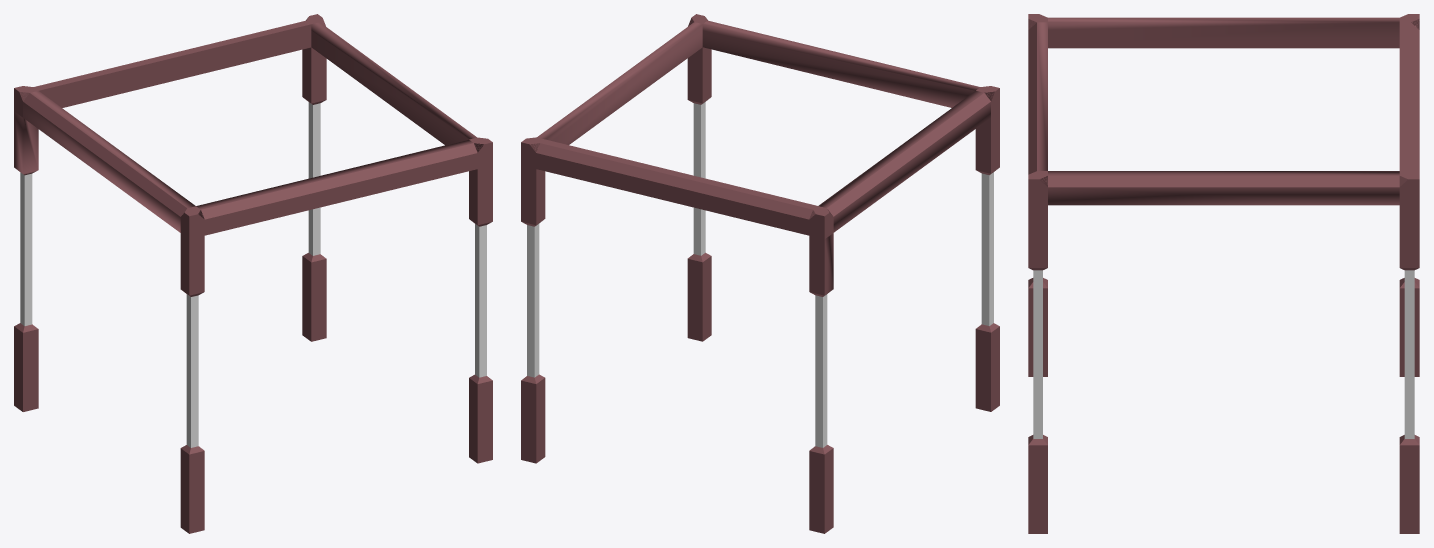
File: Frame 1.fbx
3 renders of one model, left to right at view 1: azimuth 30°, elevation 25°; view 2: azimuth 150°, elevation 25°; view 3: azimuth 270°, elevation 25°, orthographic. The views are drawn at different scales.
Visible parts, largest first — view 1: Cube; view 2: Cube; view 3: Cube.
Part boxes in pixels (x1=…): Cube: x1=14, y1=14, x2=492, y2=533; Cube: x1=521, y1=14, x2=999, y2=533; Cube: x1=1028, y1=14, x2=1419, y2=533.
Bounding box in the file's own units: 800 × 800 × 800.
